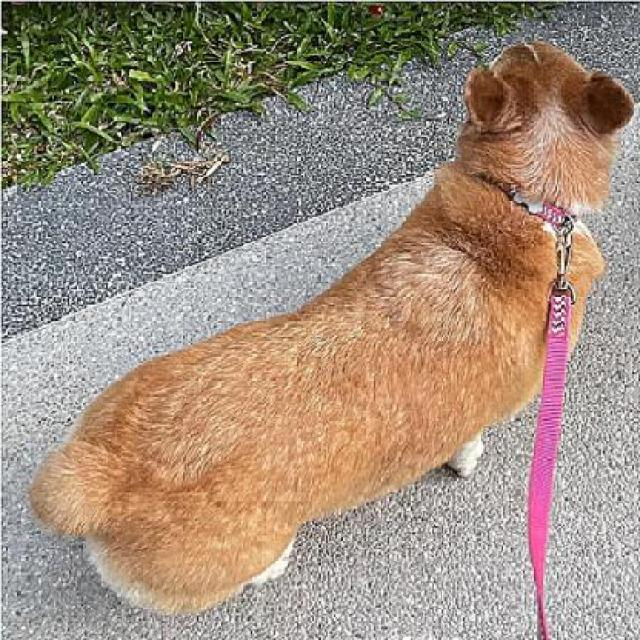Dog: (22, 28, 636, 620)
